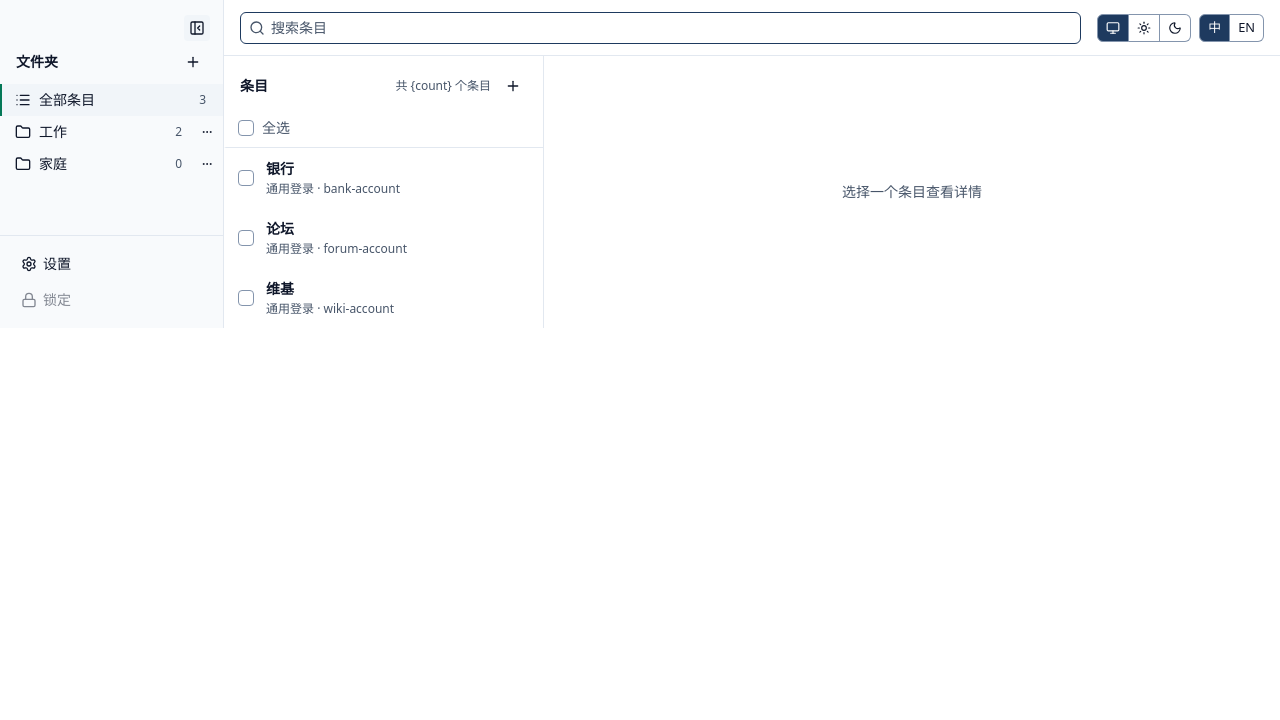
Test: 新建文件夹与校验 › 填写名称后创建, 新文件夹出现在侧栏并追加到 store 列表末尾, 条目数为 0
Click the button named "新建文件夹".
click(193, 62)  # box [179, 48, 207, 76]
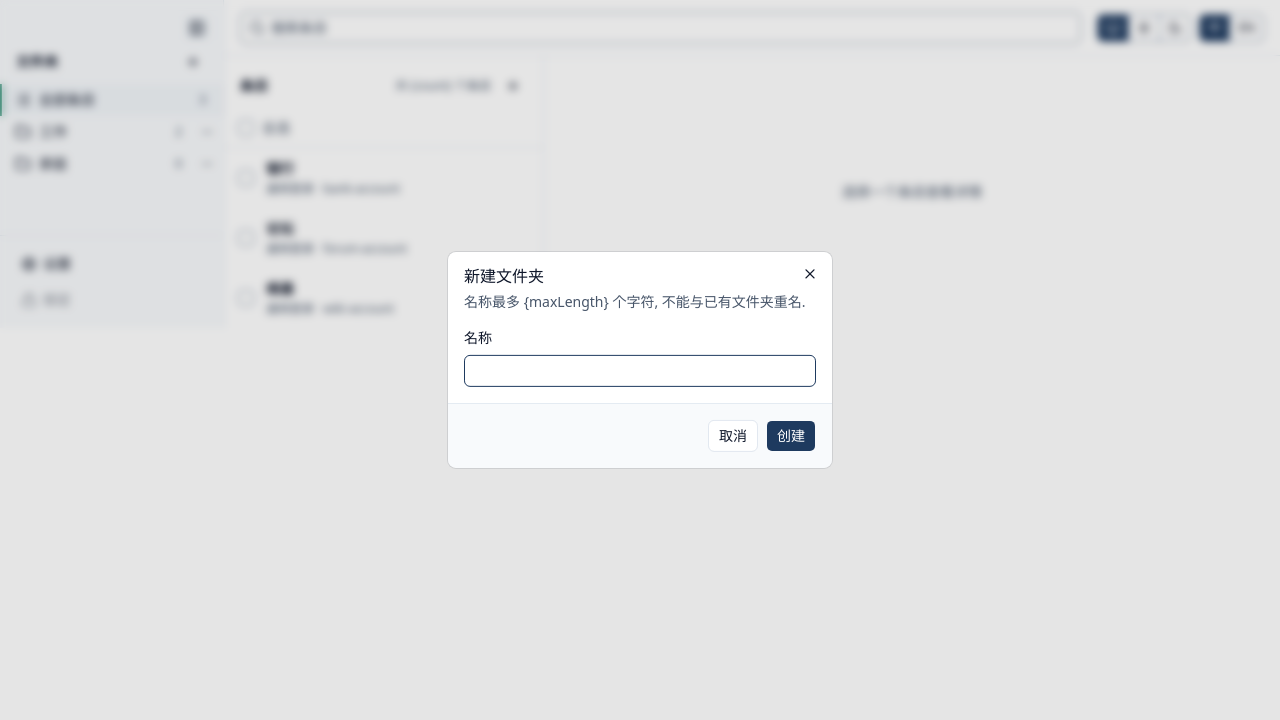
Type "  学习  " into the field labelled "名称".
click(640, 371); type("  学习  ")  # box [464, 355, 816, 387]
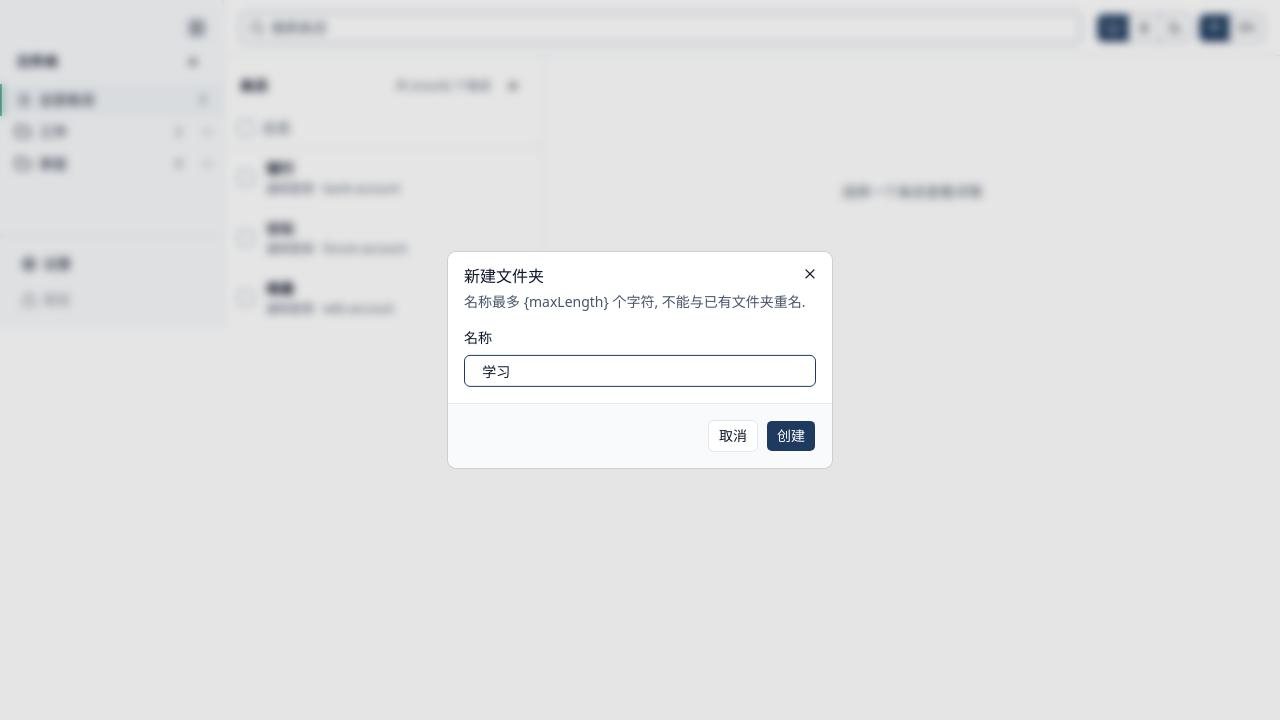
Click the button "创建".
click(791, 436)  # box [766, 420, 816, 452]
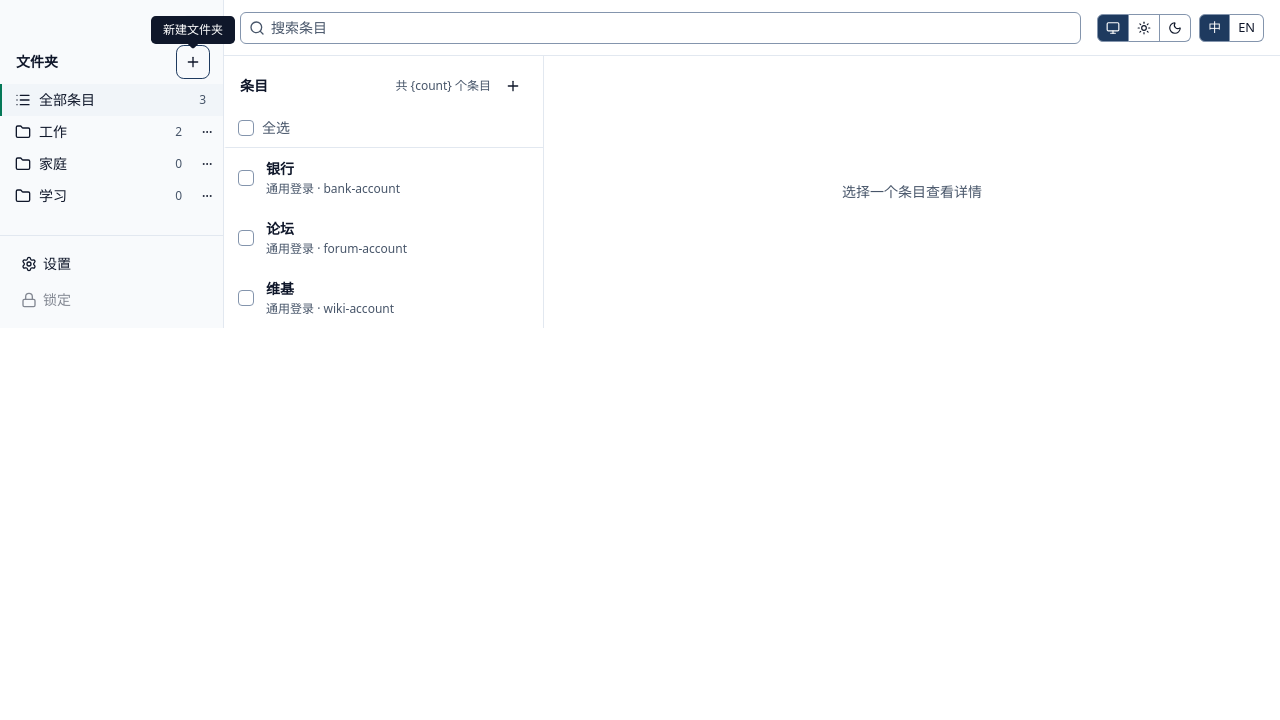
Now the dialog is gone
